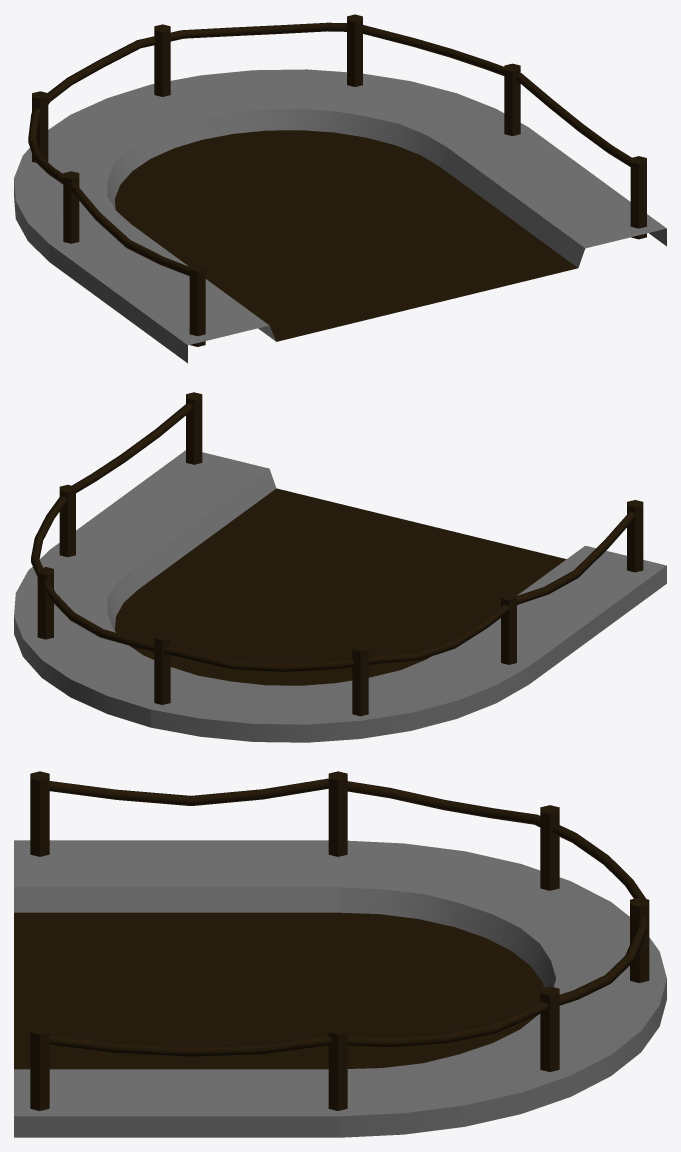
File: bridge_deadEnd_mesh.fbx
The picture shows the model from 3 angles, top to bottom: view 1: azimuth 30°, elevation 25°; view 2: azimuth 150°, elevation 25°; view 3: azimuth 270°, elevation 25°; orthographic projection. The views are drawn at different scales.
Visible parts, largest first — view 1: bridge_deadEnd_mesh; view 2: bridge_deadEnd_mesh; view 3: bridge_deadEnd_mesh.
Part boxes in pixels (box(x1,y1,x2,y2)): bridge_deadEnd_mesh: box(14, 14, 666, 363); bridge_deadEnd_mesh: box(14, 392, 666, 742); bridge_deadEnd_mesh: box(14, 771, 666, 1137).
Bounding box in the file's own units: 1 × 0.1651 × 1.
